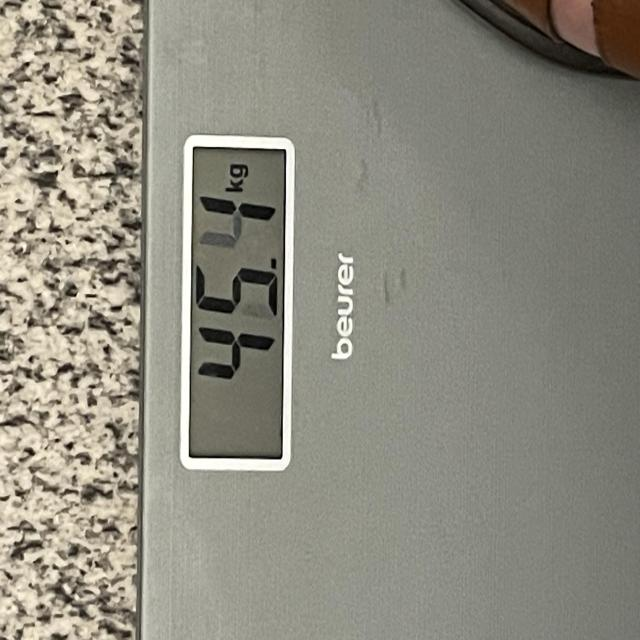ws: (134, 0, 640, 640)
